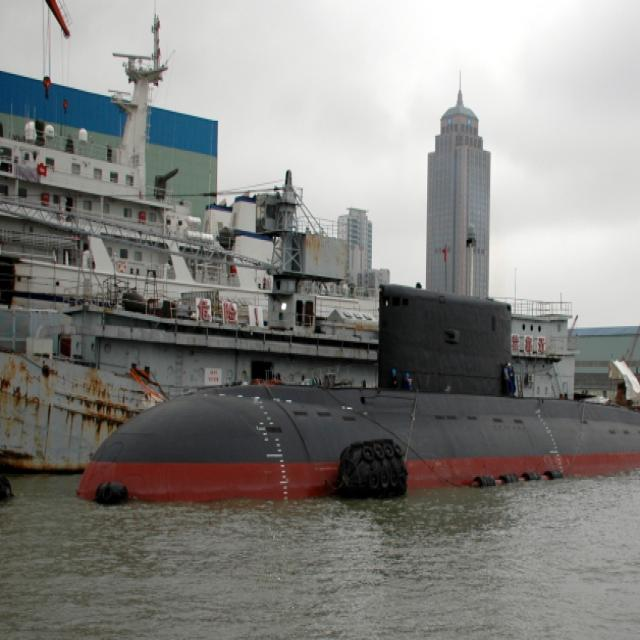submarine: (75, 289, 640, 499)
